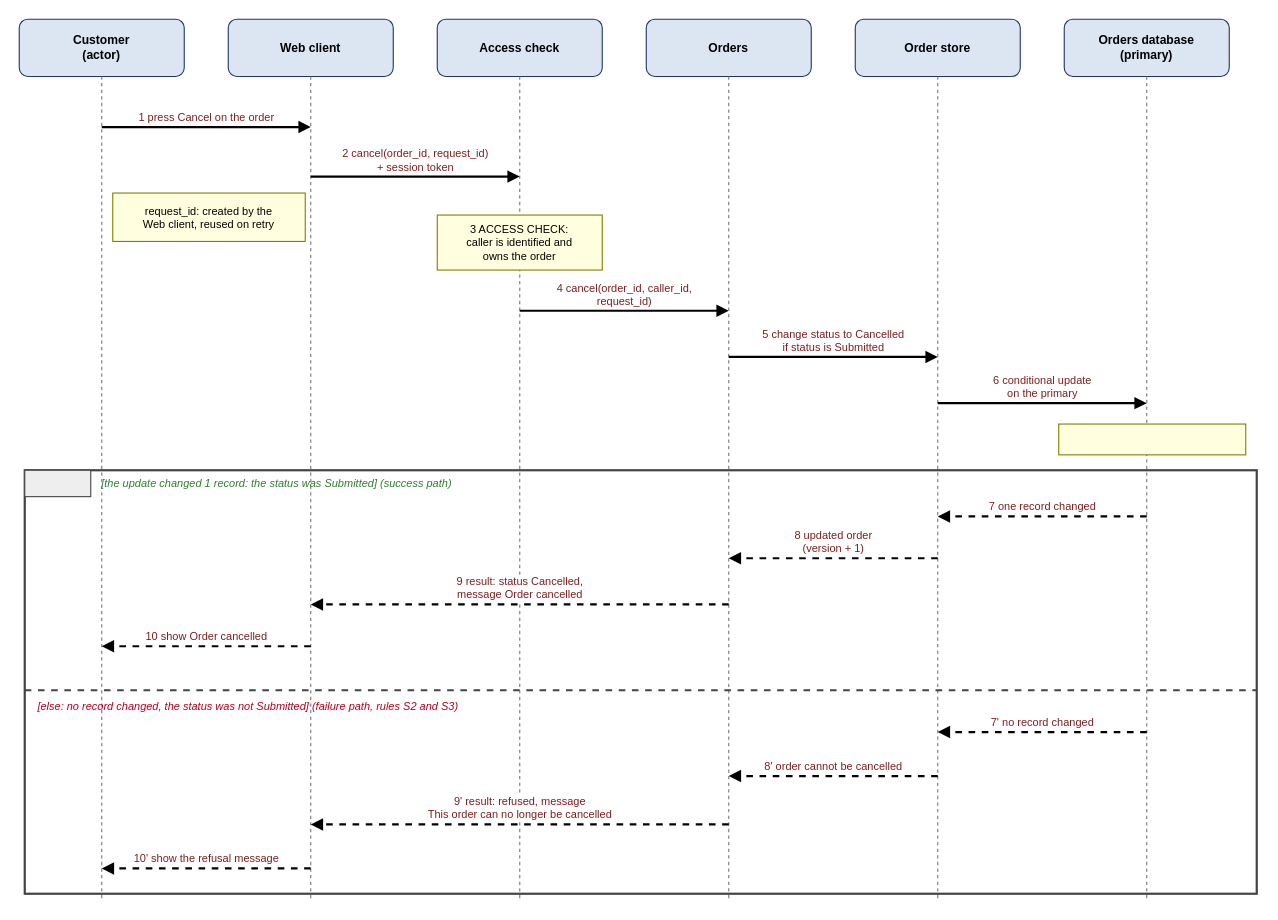
The diagram is 1278 pixels wide and 920 high, and some of its shapes have lost their labels. The centre of each missing label's shape, as x and y in pixels:
"alt" belongs at point 57,483.
"SAVED CHANGE (primary)" belongs at point 1152,439.
